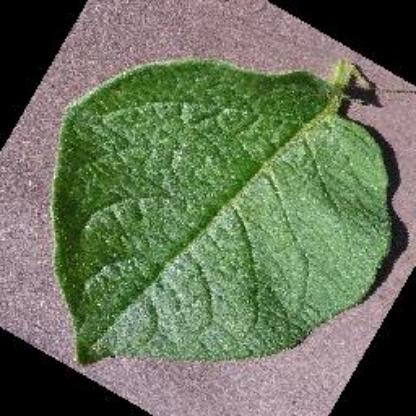Healthy-plant: (51, 59, 396, 365)
